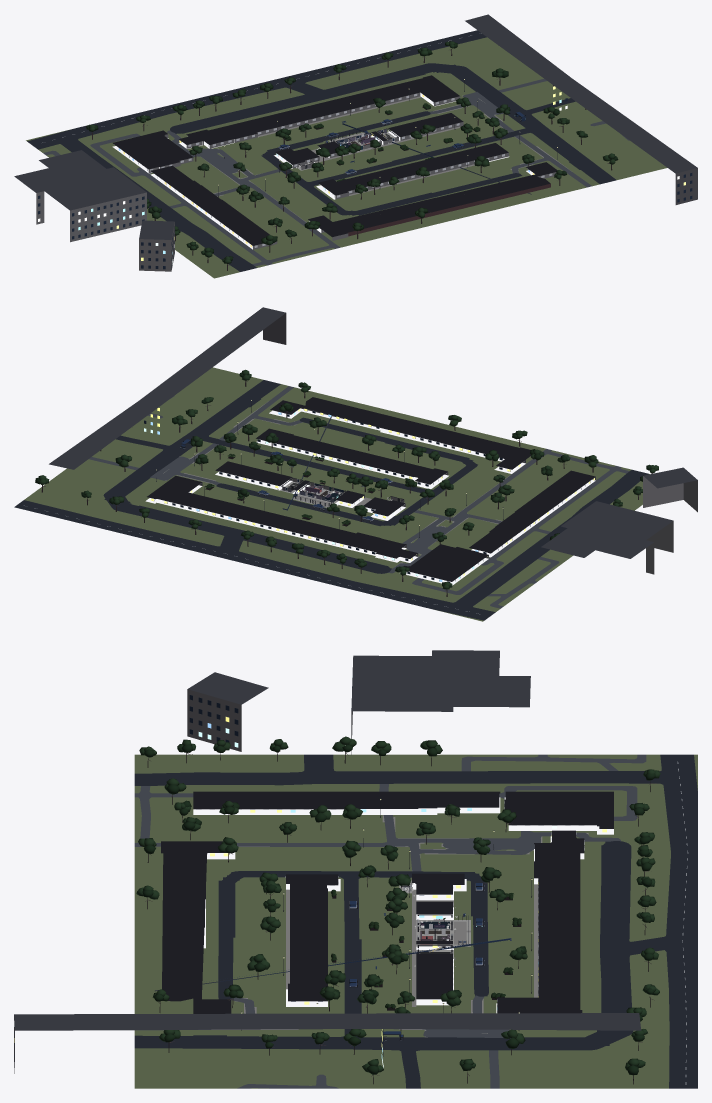
File: level.glb
3 renders of one model, top to bottom at view 1: azimuth 30°, elevation 25°; view 2: azimuth 150°, elevation 25°; view 3: azimuth 270°, elevation 25°, orthographic. The views are drawn at different scales.
Visible parts, largest first — view 1: static, blocks_caps, canopies, far_caps, far_canopies; view 2: static, blocks_caps, canopies, far_caps, far_canopies, blocks_windows; view 3: static, blocks_caps, canopies, far_canopies, far_caps.
Boxes of the visible parts, x1=… form: static: x1=14, y1=14, x2=697, y2=278; blocks_caps: x1=113, y1=75, x2=557, y2=245; canopies: x1=189, y1=97, x2=534, y2=237; far_caps: x1=319, y1=175, x2=550, y2=237; far_canopies: x1=86, y1=41, x2=618, y2=263; static: x1=14, y1=307, x2=697, y2=621; blocks_caps: x1=147, y1=400, x2=595, y2=581; canopies: x1=190, y1=403, x2=570, y2=542; far_caps: x1=305, y1=397, x2=530, y2=468; far_canopies: x1=35, y1=369, x2=658, y2=589; blocks_windows: x1=151, y1=408, x2=594, y2=581; static: x1=14, y1=650, x2=697, y2=1088; blocks_caps: x1=193, y1=791, x2=613, y2=1013; canopies: x1=174, y1=800, x2=527, y2=1013; far_canopies: x1=136, y1=736, x2=660, y2=1075; far_caps: x1=161, y1=841, x2=222, y2=1001.
Bounding box in the file's own units: 220 × 12.4 × 163.
